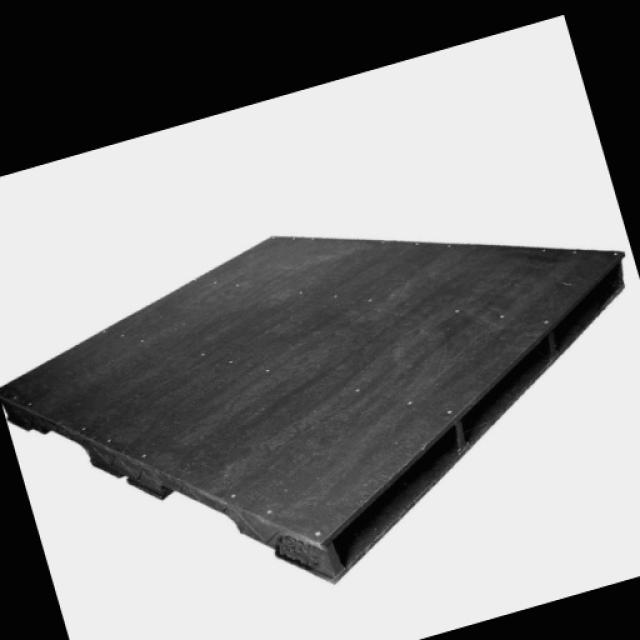non-igps: (0, 226, 629, 590)
